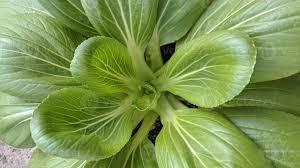Healthy-Pechay: (15, 2, 292, 166)
